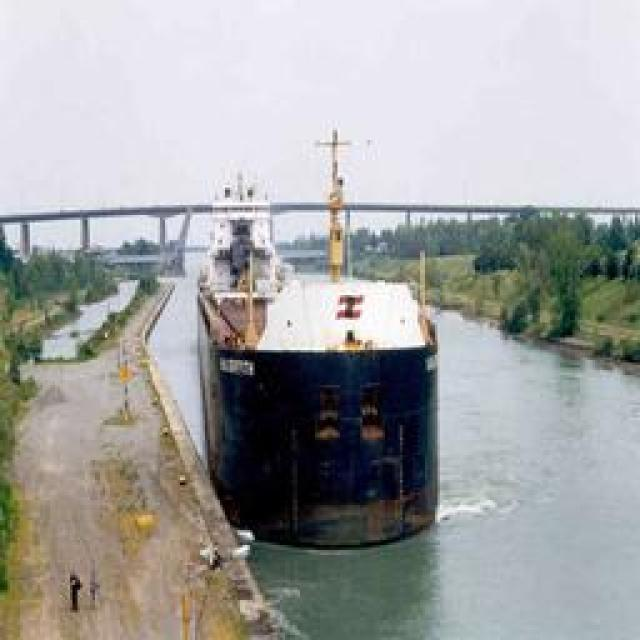ship2: (198, 128, 440, 552)
